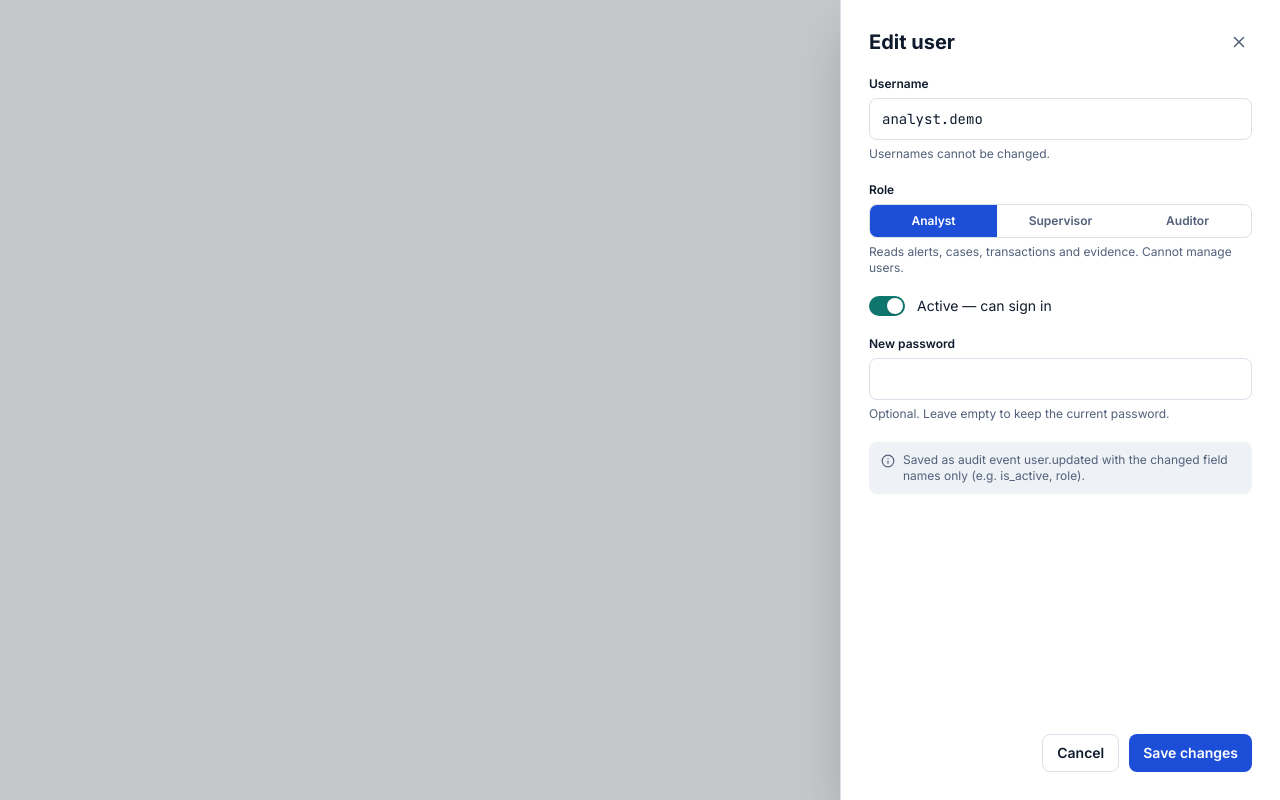
Test: UserFormDrawer › 409 USER_SELF_LOCKOUT shows a banner
Click the radio button labelled "Supervisor" at (1060, 221), box [997,205,1124,237]
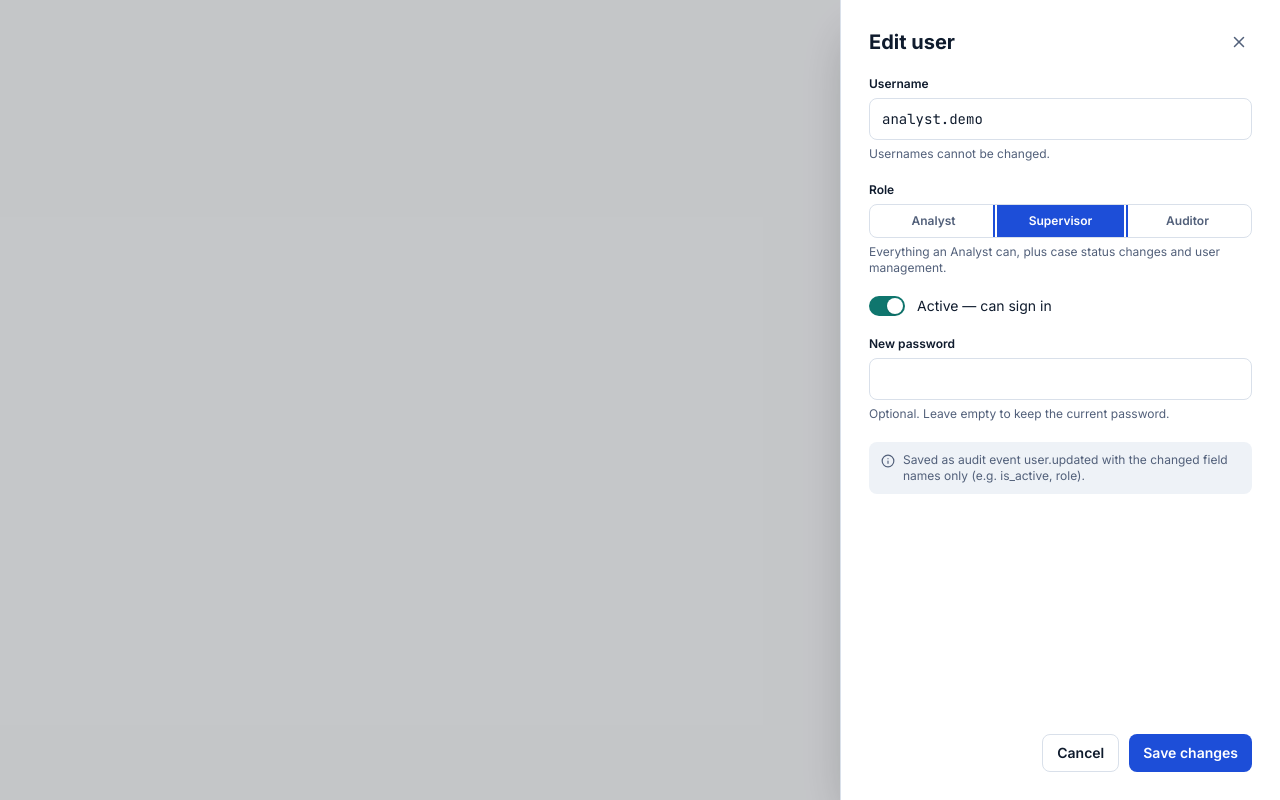
Click the button "Save changes" at (1191, 753), box [1129,734,1252,772]
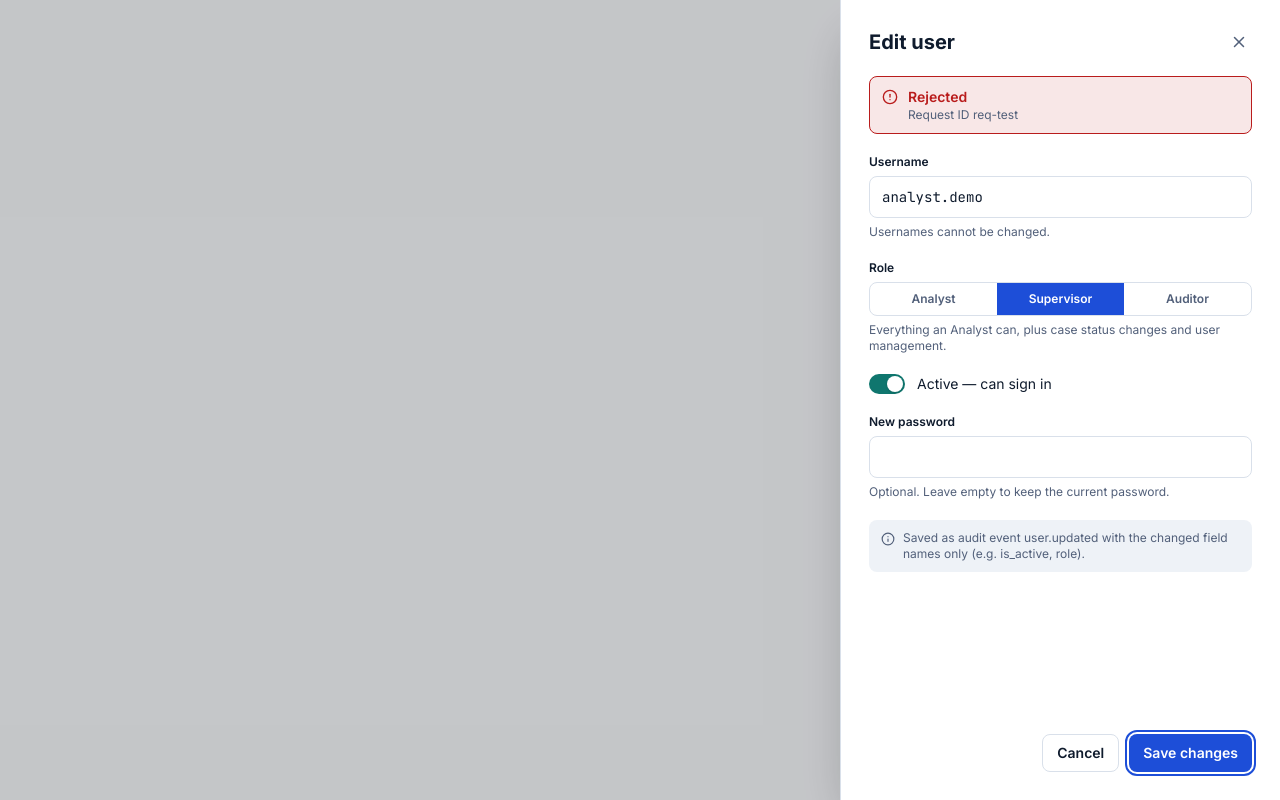
Expected: the message shows "Rejected", [908,88,967,105]
